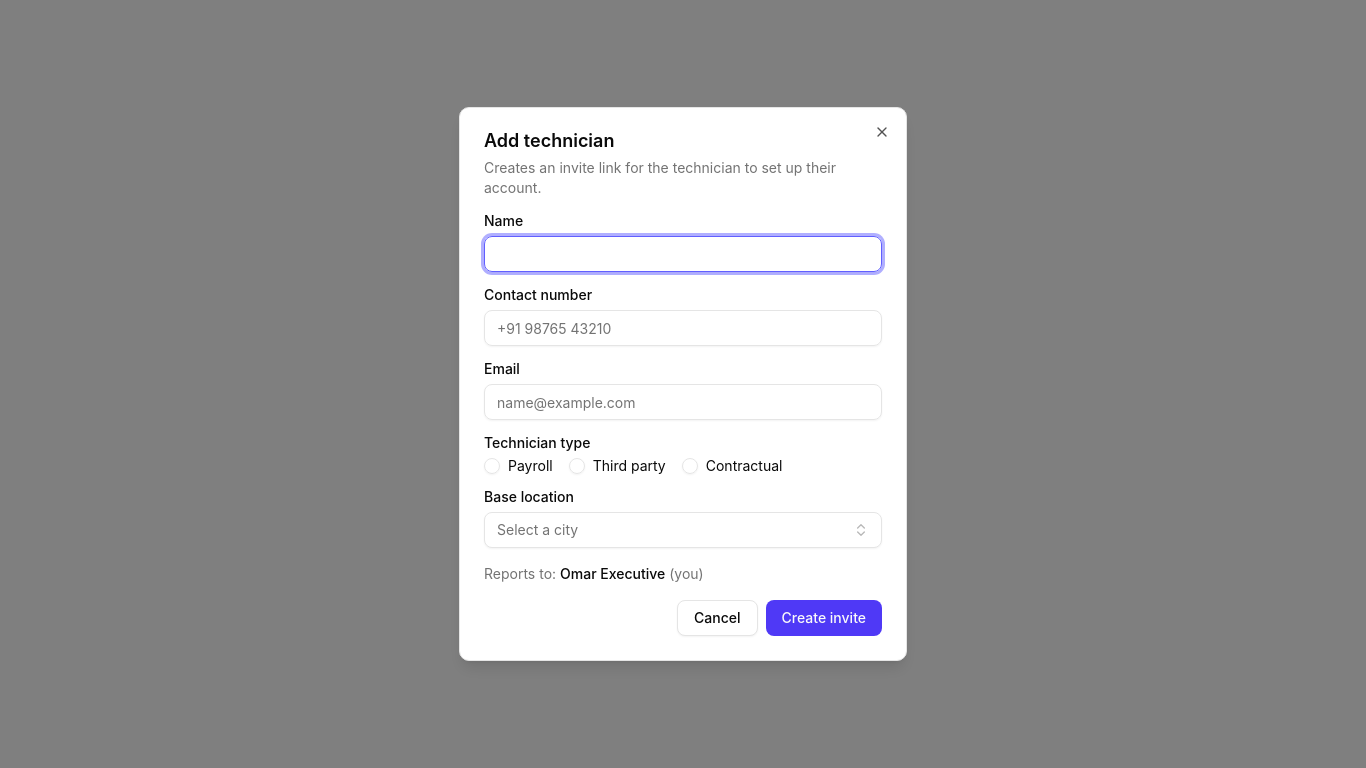
Test: TechnicianDialog — add › shows a taken email next to the email field
This screenshot has width=1366, height=768.
Step 1. Type "Ravi Kumar" into the field labelled "Name" → (683, 254), box x1=484 y1=236 x2=882 y2=272
Step 2. Type "+91 90000 00001" into the field labelled "Contact number" → (683, 328), box x1=484 y1=310 x2=882 y2=346
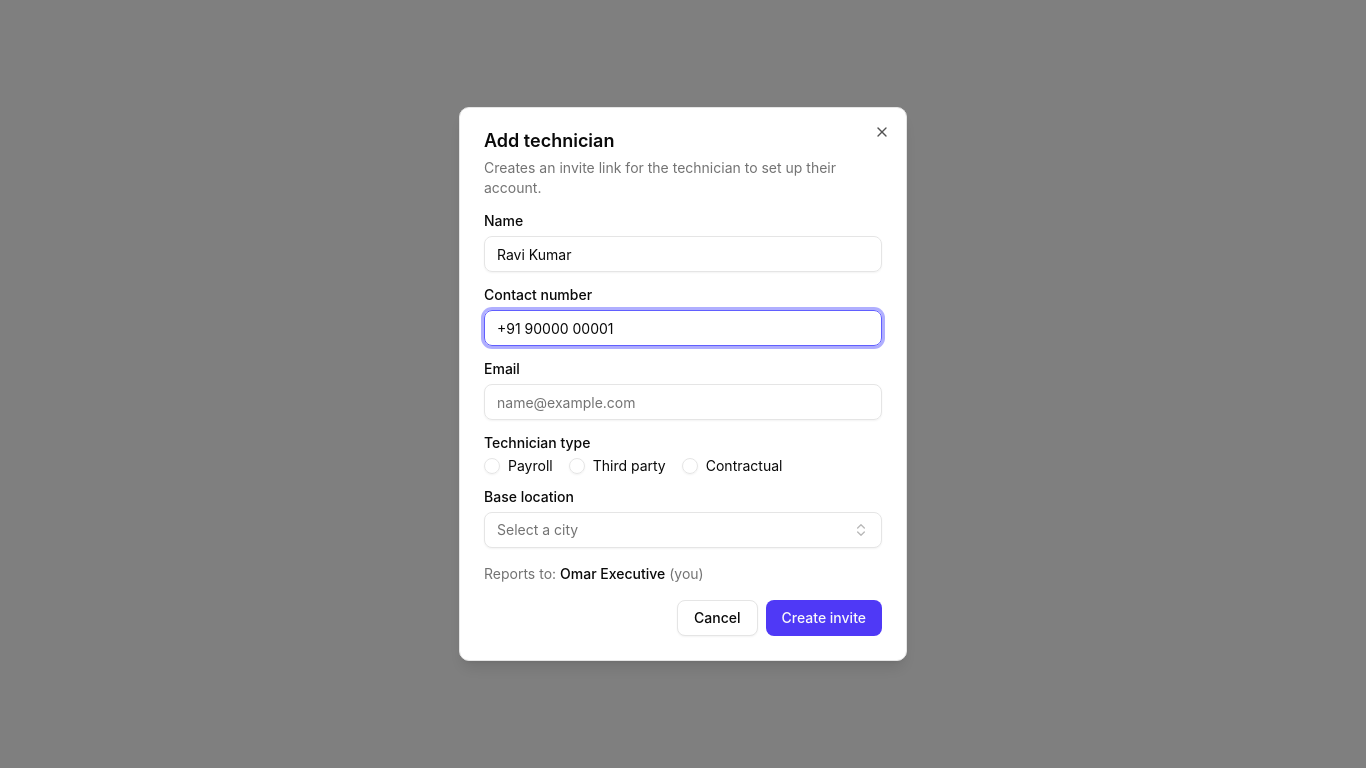
Step 3. Type "Ravi@Example.com" into the field labelled "Email" → (683, 402), box x1=484 y1=384 x2=882 y2=420
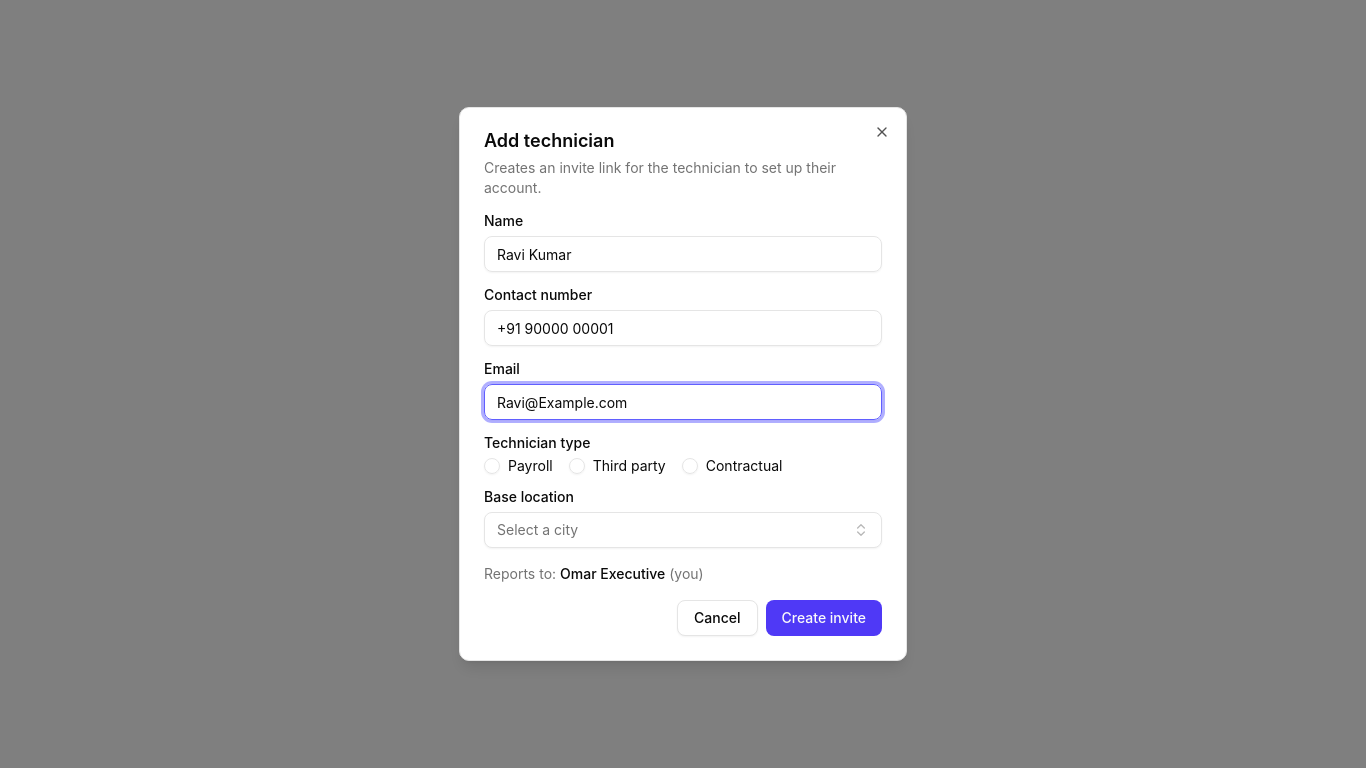
Step 4. Click the radio button named "Third party" next to "Third party" → click(577, 466), box x1=569 y1=458 x2=585 y2=474
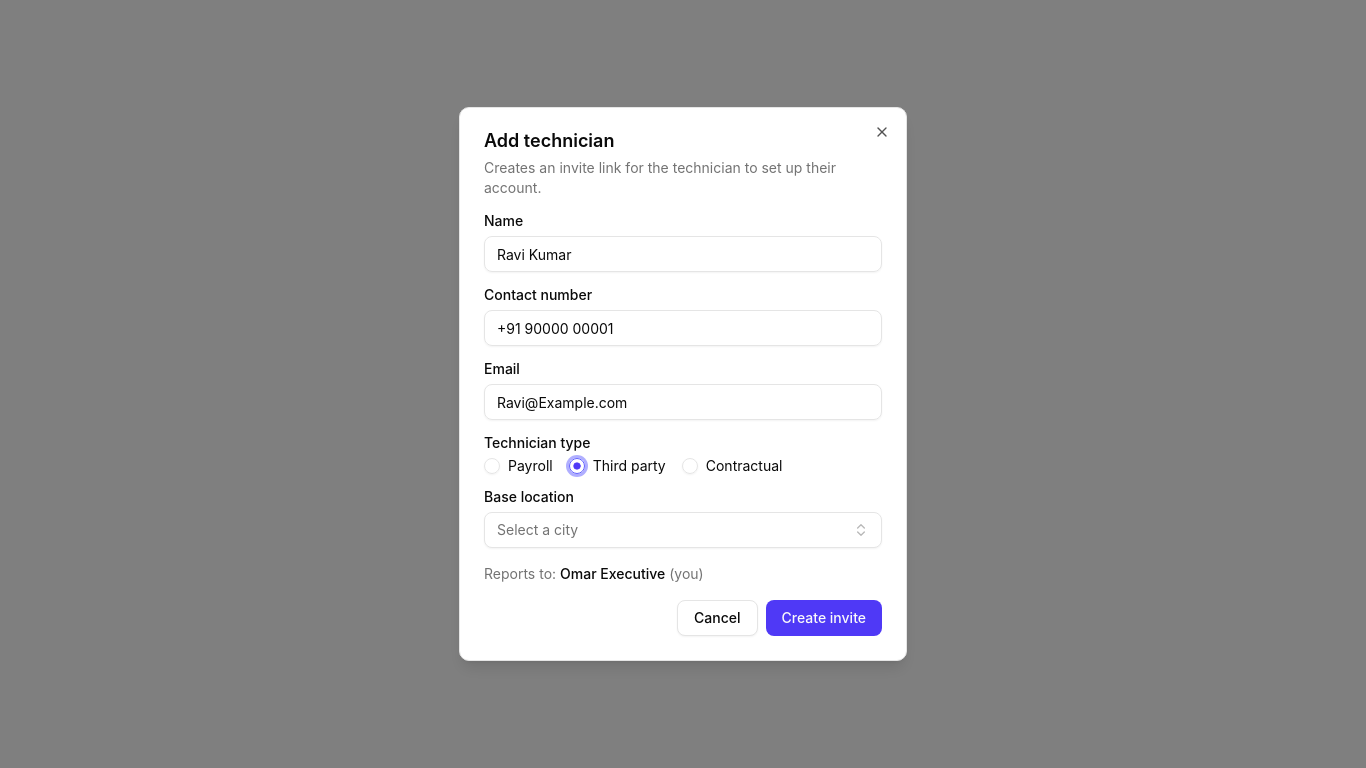
Step 5. Click the dropdown named "Base location" → click(538, 530), box x1=484 y1=512 x2=882 y2=548
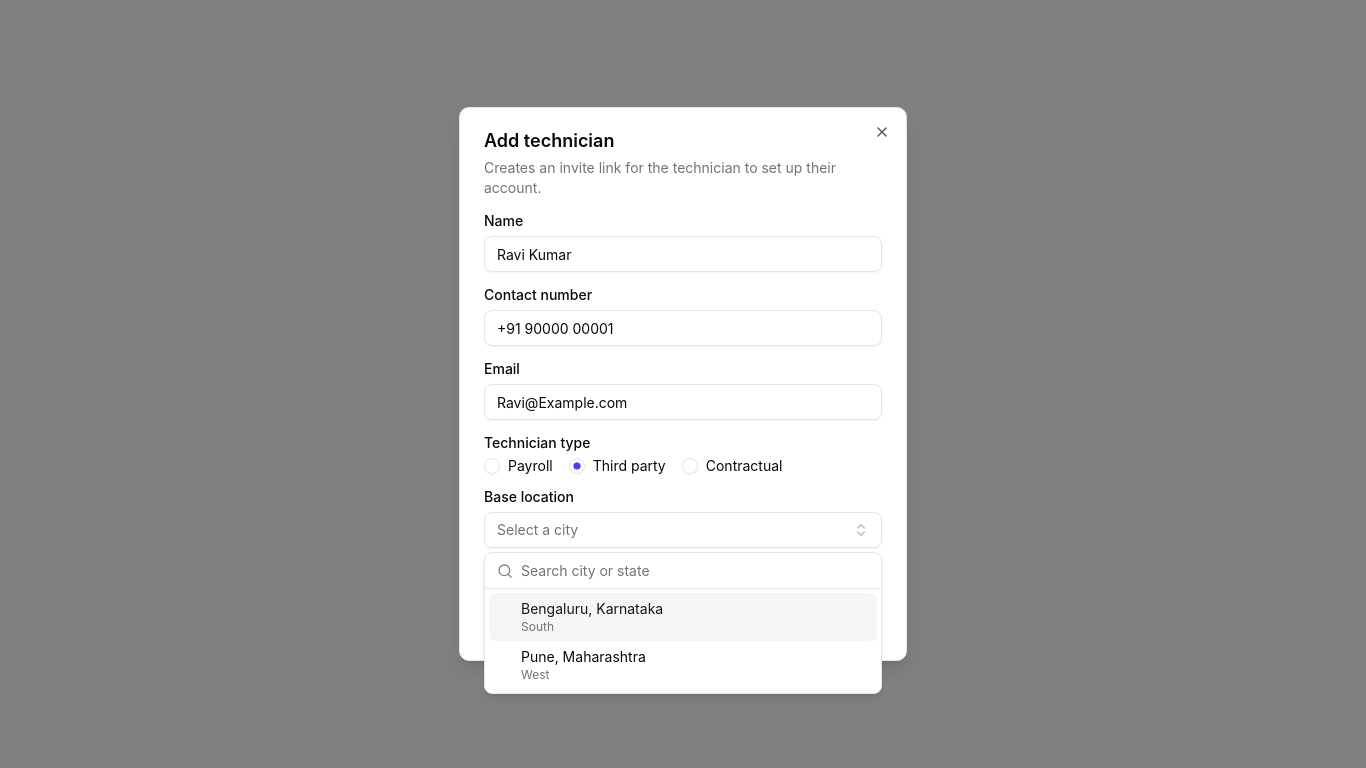
Step 6. Click the option "Pune, Maharashtra West" → click(583, 665), box x1=521 y1=648 x2=646 y2=682
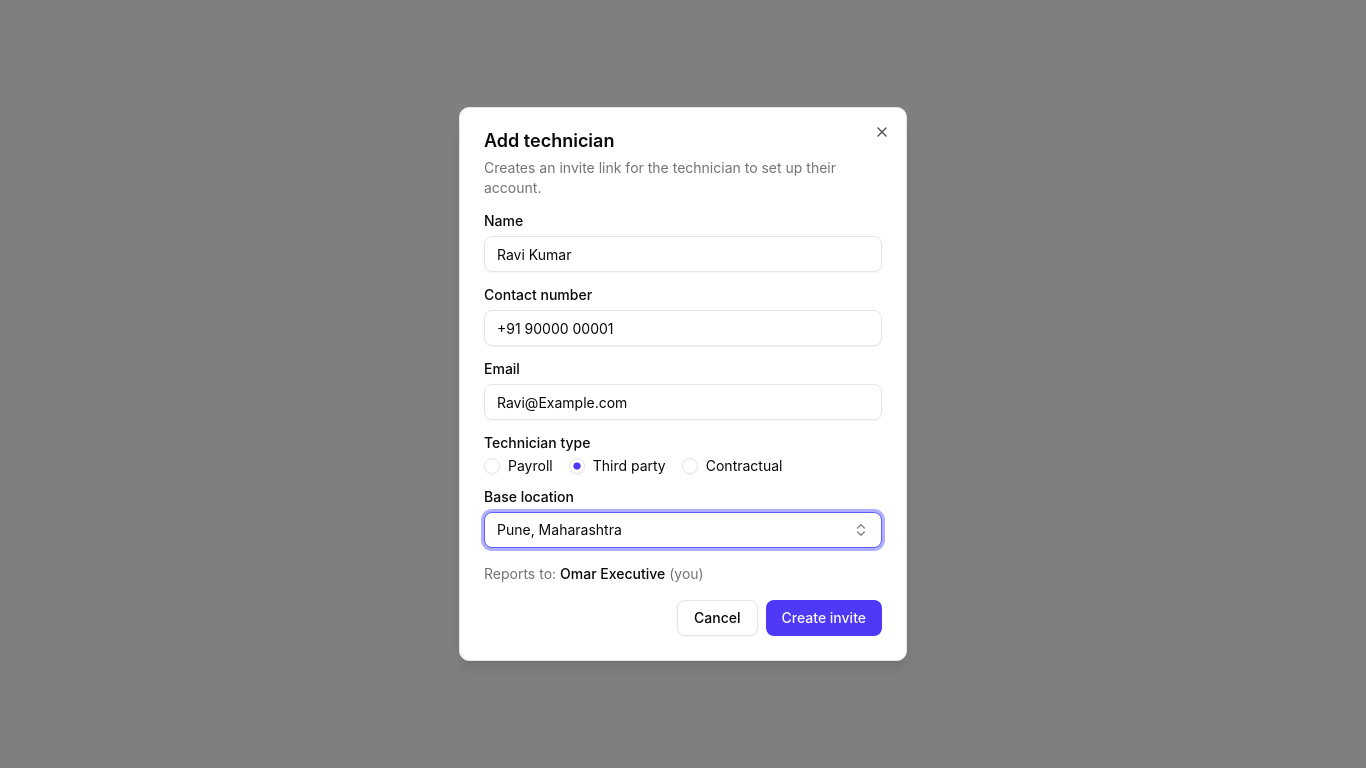
Step 7. Click the button "Create invite" → click(824, 618), box x1=766 y1=600 x2=882 y2=636
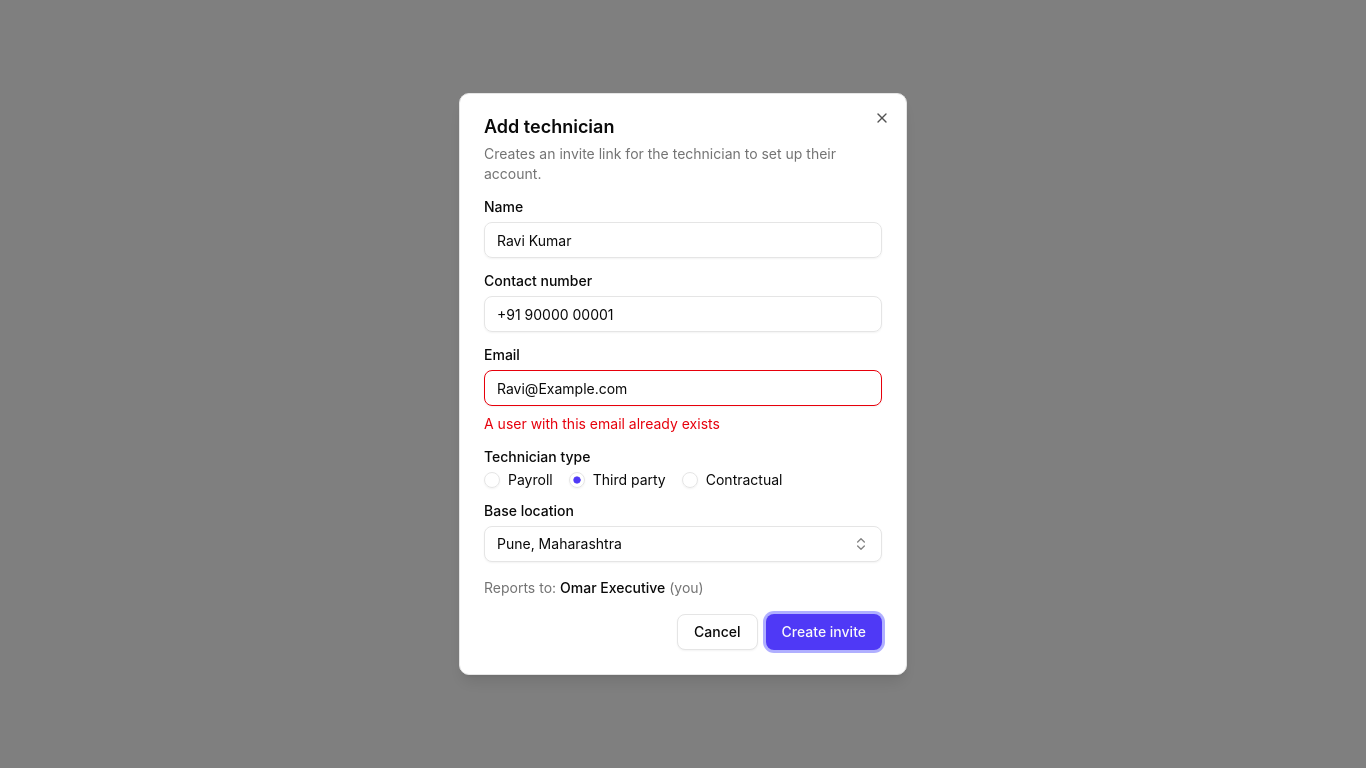
Result: the text "A user with this email already exists" is shown at x1=484 y1=415 x2=720 y2=432
